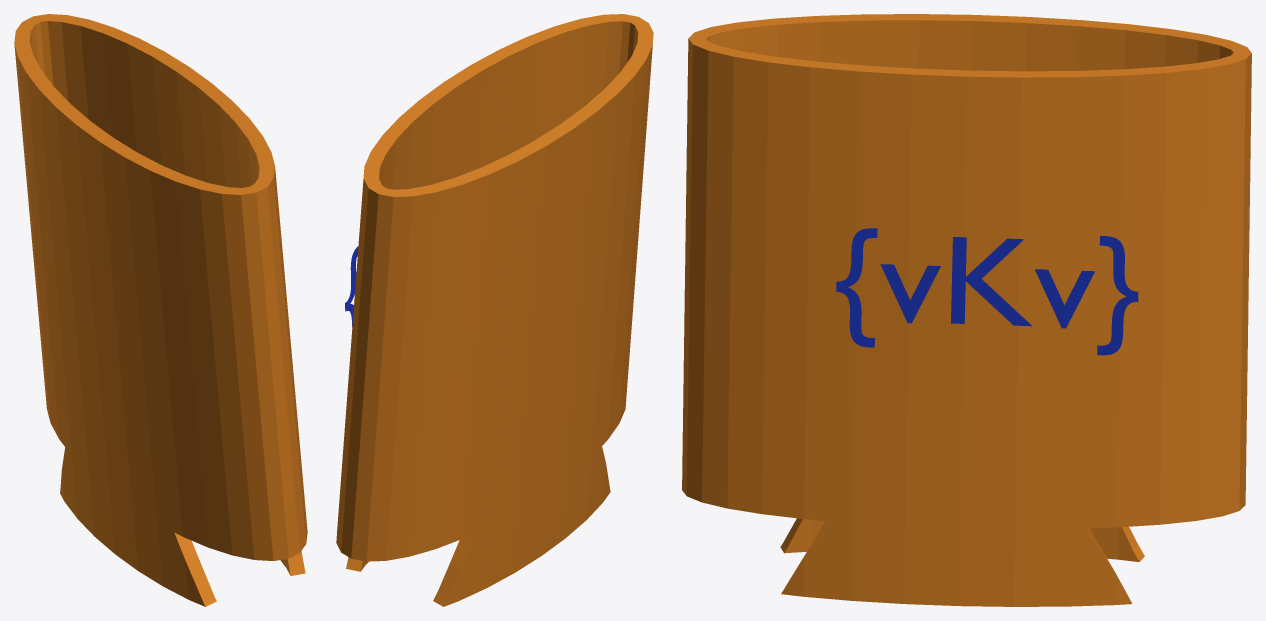
The model's file is Koozie8.fbx.
3 renders of one model, left to right at view 1: azimuth 30°, elevation 25°; view 2: azimuth 150°, elevation 25°; view 3: azimuth 270°, elevation 25°, orthographic. The views are drawn at different scales.
Visible parts, largest first — view 1: Cylinder; view 2: Cylinder; view 3: Cylinder, Text.
Part boxes in pixels (x1,y1,x2,y2): Cylinder: (14,14,307,606); Cylinder: (336,14,653,606); Cylinder: (682,14,1251,606); Text: (836,228,1138,355).
Size of the model in its own units: 161 by 410 by 404.
